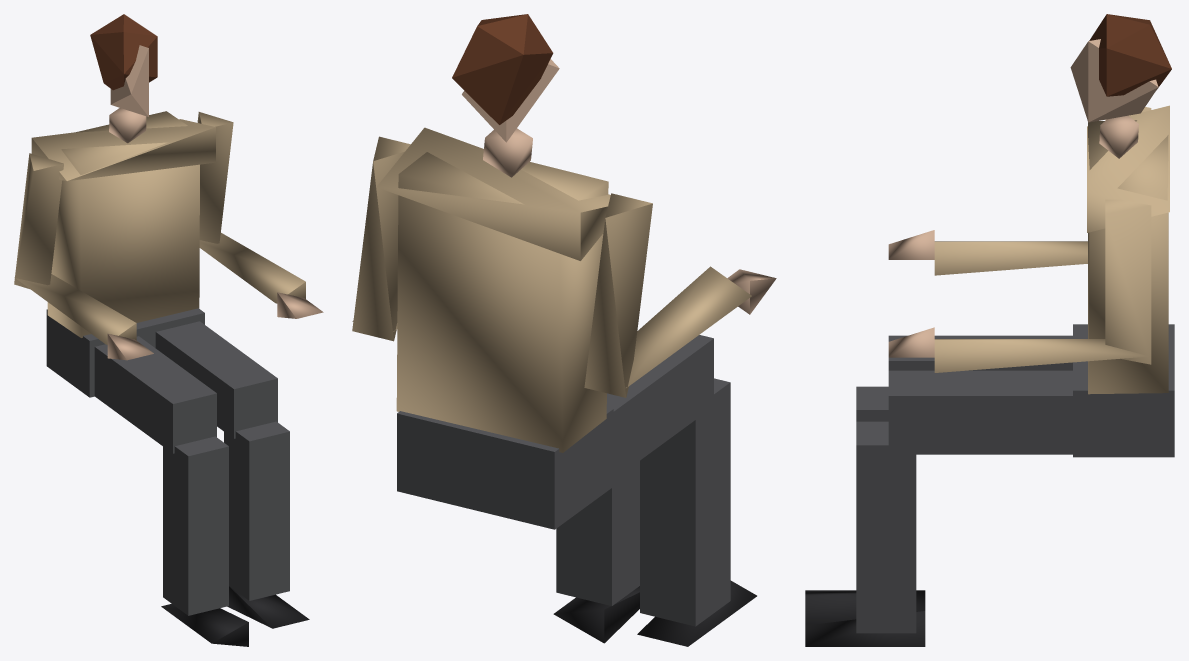
Rendered from person_seated_b_LOD1.glb.
3 views of the same model, side by side, from view 1: azimuth 30°, elevation 25°; view 2: azimuth 150°, elevation 25°; view 3: azimuth 270°, elevation 25° (orthographic). The views are drawn at different scales.
Parts seen in each view (by area): view 1: Body_LOD1; view 2: Body_LOD1; view 3: Body_LOD1.
Boxes of the visible parts, left/top/right/bottom form: Body_LOD1: left=14, top=14, right=323, bottom=646; Body_LOD1: left=352, top=14, right=776, bottom=646; Body_LOD1: left=805, top=14, right=1174, bottom=646.
Size of the model in its own units: 0.59 by 1.47 by 0.8.
